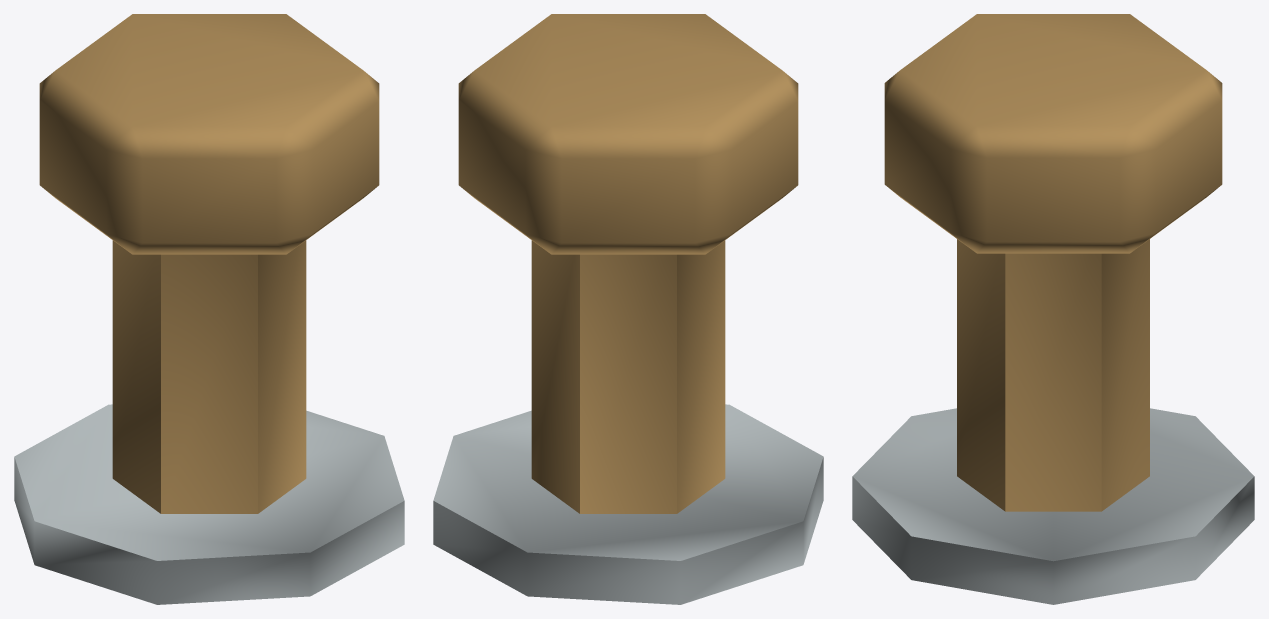
Rendered from fx_loose_peg.glb.
3 views of the same model, side by side, from view 1: azimuth 30°, elevation 25°; view 2: azimuth 150°, elevation 25°; view 3: azimuth 270°, elevation 25° (orthographic).
Parts seen in each view (by area): view 1: fx_loose_peg; view 2: fx_loose_peg; view 3: fx_loose_peg.
Boxes of the visible parts, x1,y1,x2,y2 form: fx_loose_peg: (14,14,404,604); fx_loose_peg: (433,14,823,604); fx_loose_peg: (852,14,1254,604).
Size of the model in its own units: 0.1 by 0.1235 by 0.1.
Materials: 1 (1 with a texture image).
